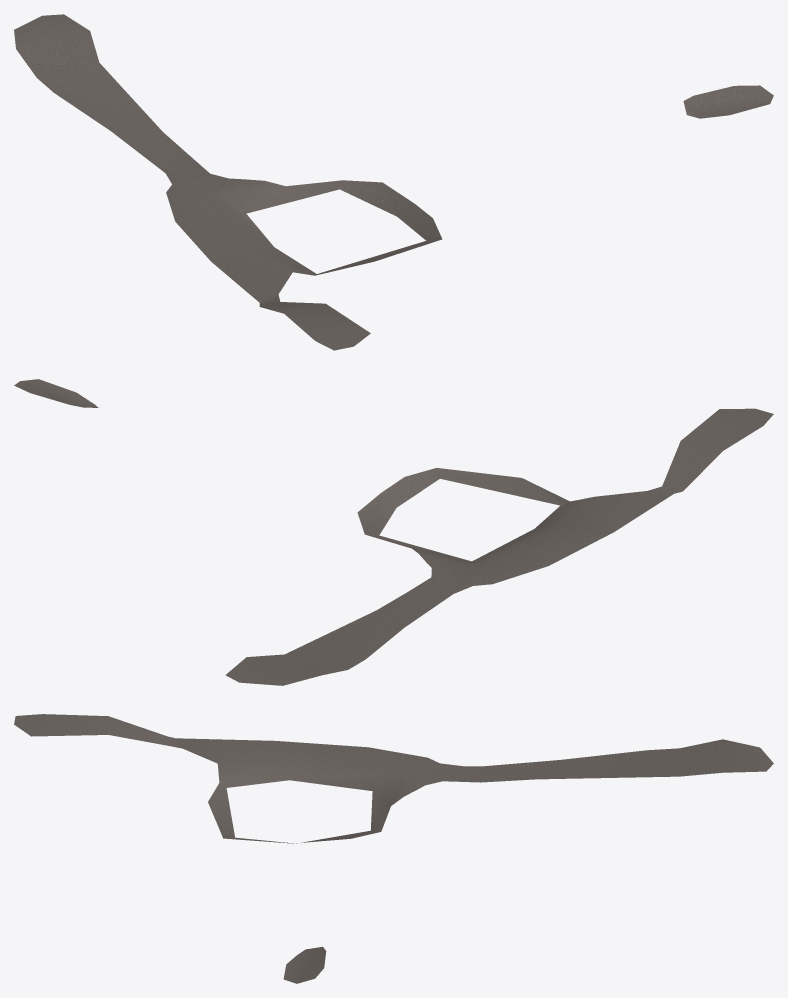
File: kd_stage_135d18_4_135.glb
The picture shows the model from 3 angles, top to bottom: view 1: azimuth 30°, elevation 25°; view 2: azimuth 150°, elevation 25°; view 3: azimuth 270°, elevation 25°; orthographic projection. The views are drawn at different scales.
Visible parts, largest first — view 1: kd_stage_135d18_4_135; view 2: kd_stage_135d18_4_135; view 3: kd_stage_135d18_4_135.
Boxes of the visible parts, x1=… form: kd_stage_135d18_4_135: x1=14, y1=14, x2=773, y2=350; kd_stage_135d18_4_135: x1=14, y1=379, x2=773, y2=685; kd_stage_135d18_4_135: x1=14, y1=714, x2=773, y2=983.
Size of the model in its own units: 7.06 by 0.4355 by 8.42.
1 material, 1 textured.
